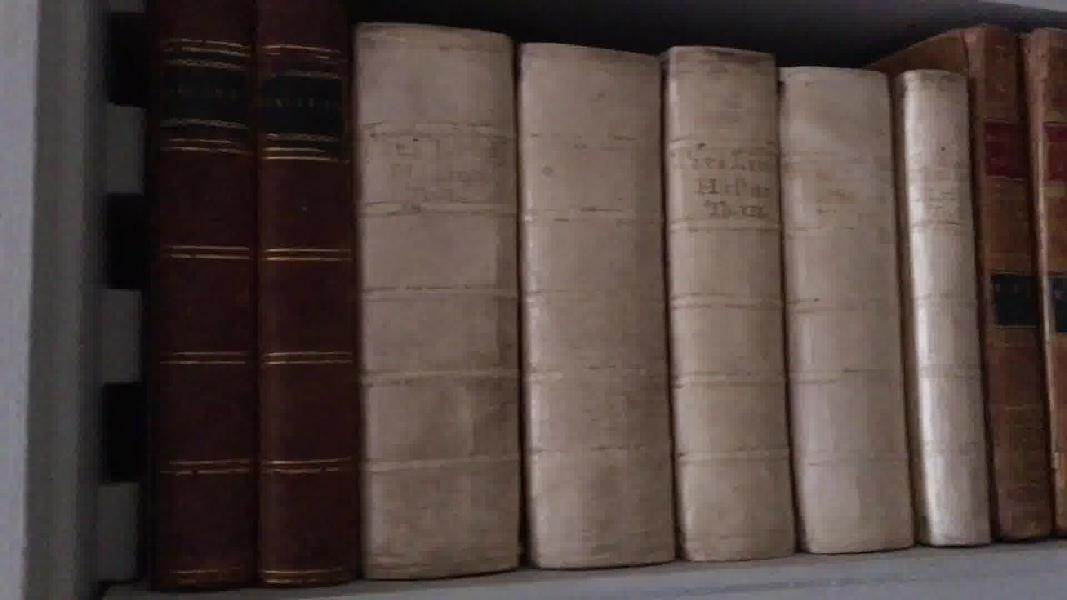Kk4-1_2: (151, 1, 366, 600)
Kk4-3_7: (360, 19, 988, 572)
